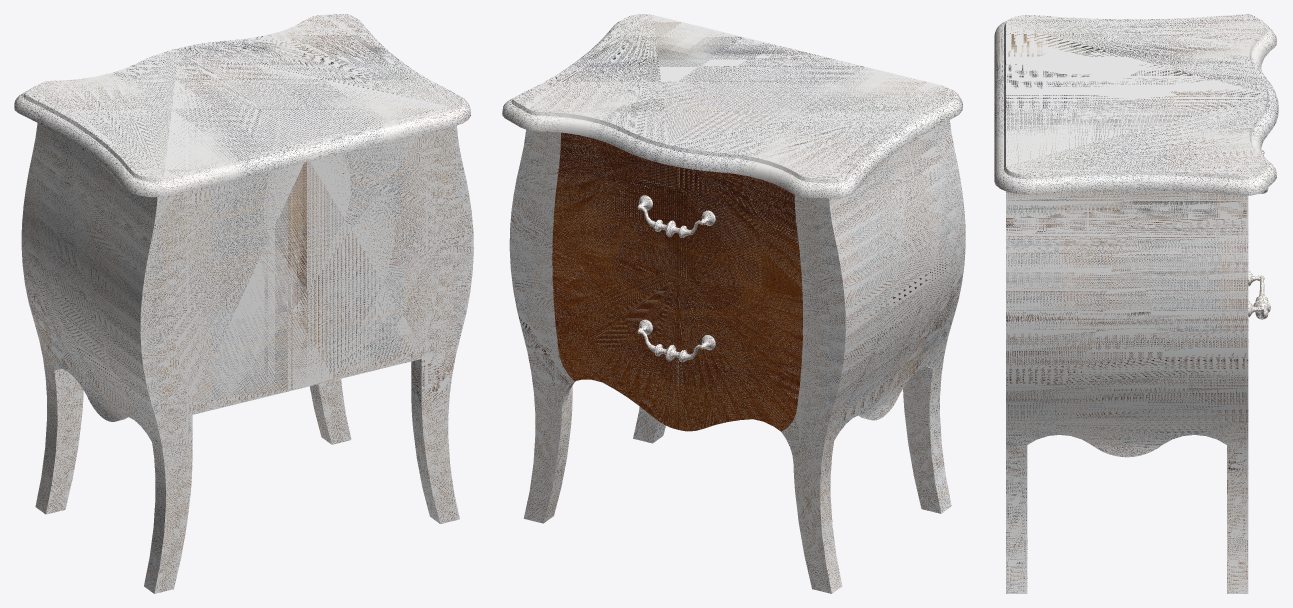
The picture shows the model from 3 angles, left to right: view 1: azimuth 30°, elevation 25°; view 2: azimuth 150°, elevation 25°; view 3: azimuth 270°, elevation 25°; orthographic projection.
Parts seen in each view (by area): view 1: mesh2_mesh2-geometry, mesh11_mesh11-geometry, mesh4_mesh4-geometry, mesh13_mesh13-geometry; view 2: mesh2_mesh2-geometry, mesh1_mesh1-geometry, mesh10_mesh10-geometry, mesh4_mesh4-geometry, mesh13_mesh13-geometry, mesh11_mesh11-geometry; view 3: mesh11_mesh11-geometry, mesh13_mesh13-geometry, mesh4_mesh4-geometry.
Boxes of the visible parts, left/top/right/bottom form: mesh2_mesh2-geometry: left=21, top=123, right=306, bottom=593; mesh11_mesh11-geometry: left=307, top=125, right=473, bottom=523; mesh4_mesh4-geometry: left=14, top=48, right=312, bottom=197; mesh13_mesh13-geometry: left=179, top=14, right=470, bottom=160; mesh2_mesh2-geometry: left=781, top=120, right=965, bottom=593; mesh1_mesh1-geometry: left=677, top=167, right=802, bottom=431; mesh10_mesh10-geometry: left=552, top=132, right=677, bottom=429; mesh4_mesh4-geometry: left=662, top=50, right=962, bottom=198; mesh13_mesh13-geometry: left=502, top=14, right=797, bottom=163; mesh11_mesh11-geometry: left=509, top=129, right=665, bottom=523; mesh11_mesh11-geometry: left=1006, top=190, right=1248, bottom=593; mesh13_mesh13-geometry: left=994, top=95, right=1278, bottom=195; mesh4_mesh4-geometry: left=994, top=14, right=1278, bottom=106.
Size of the model in its own units: 0.5958 by 0.6857 by 0.4182.
